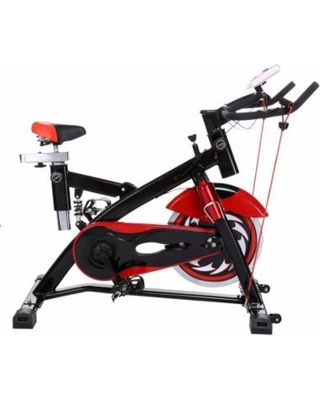gym_bike: (14, 57, 316, 345)
